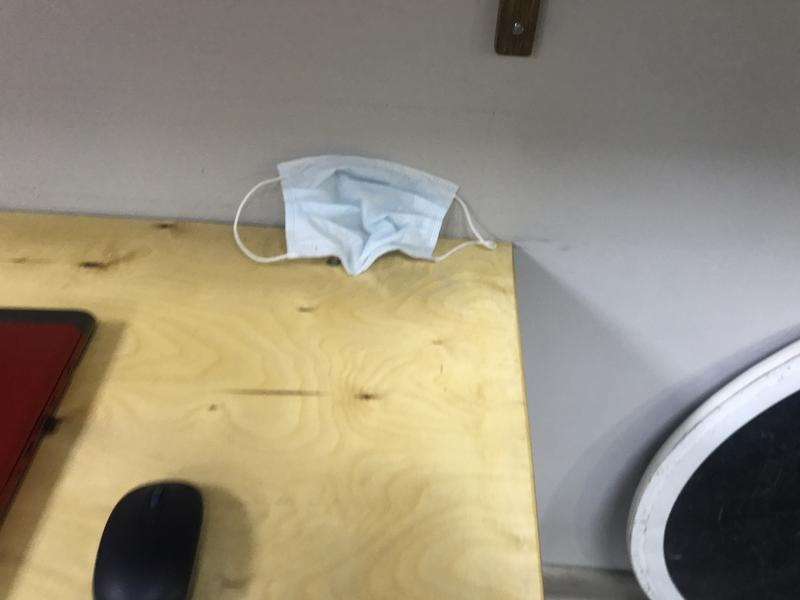medical_mask: (233, 156, 495, 278)
